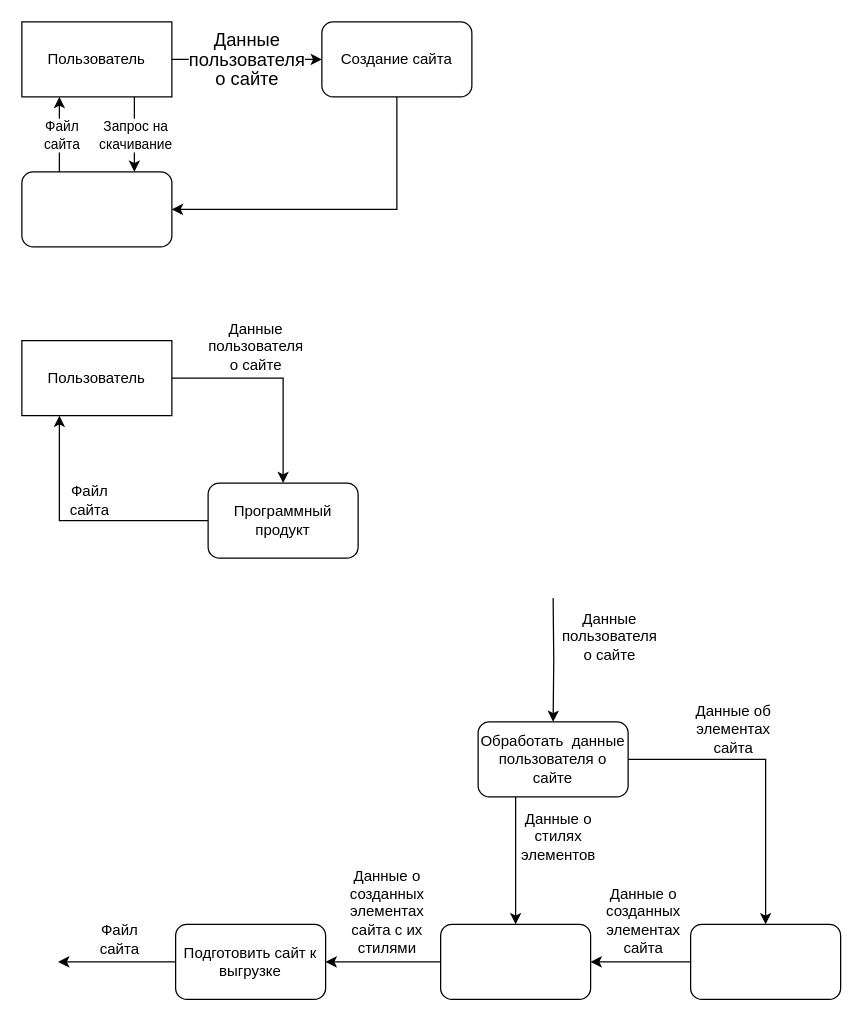
This 863x1021 diagram has some shape labels left out. The centre of each missing label's shape, as x and y in pixels:
Применить стили к элементам: the point at 515,961
Создать необходимые элементы: the point at 765,961
Формирование файла для скачивания: the point at 96,209
